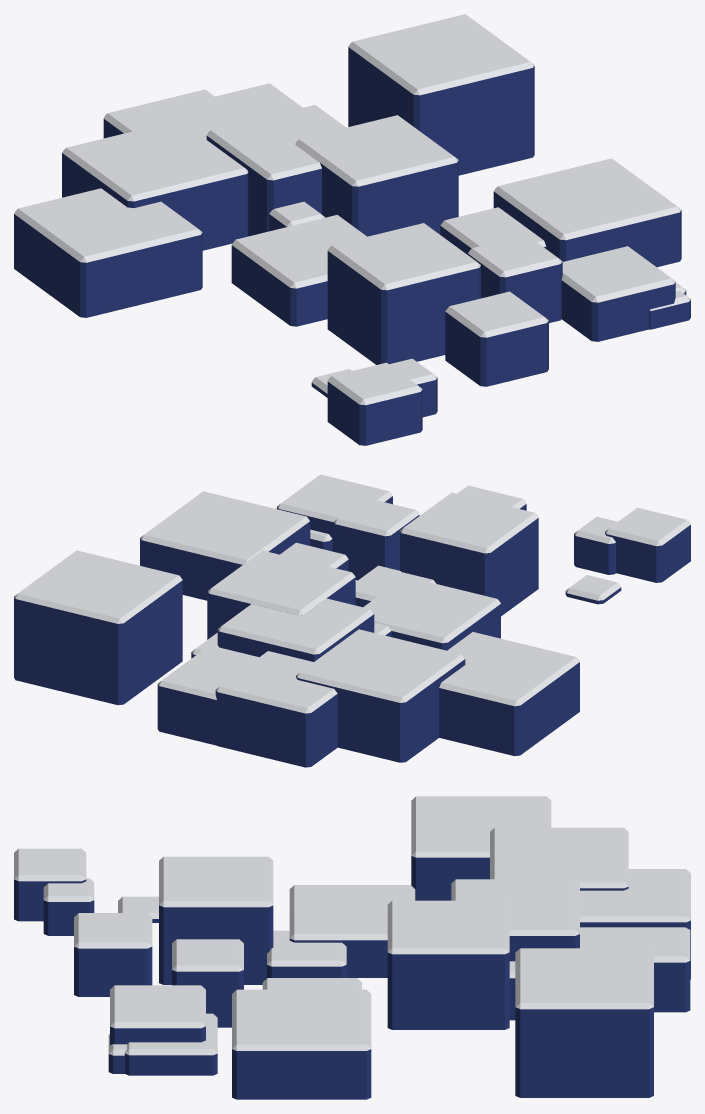
Rendered from s_buidlings_factory2.glb.
The picture shows the model from 3 angles, top to bottom: view 1: azimuth 30°, elevation 25°; view 2: azimuth 150°, elevation 25°; view 3: azimuth 270°, elevation 25°; orthographic projection. The views are drawn at different scales.
Visible parts, largest first — view 1: Random blocks 2; view 2: Random blocks 2; view 3: Random blocks 2.
Part boxes in pixels (left/top/right/bottom): Random blocks 2: left=14, top=14, right=690, bottom=445; Random blocks 2: left=14, top=474, right=690, bottom=767; Random blocks 2: left=14, top=796, right=690, bottom=1099.
Bounding box in the file's own units: 4.05 × 0.7124 × 4.7.
